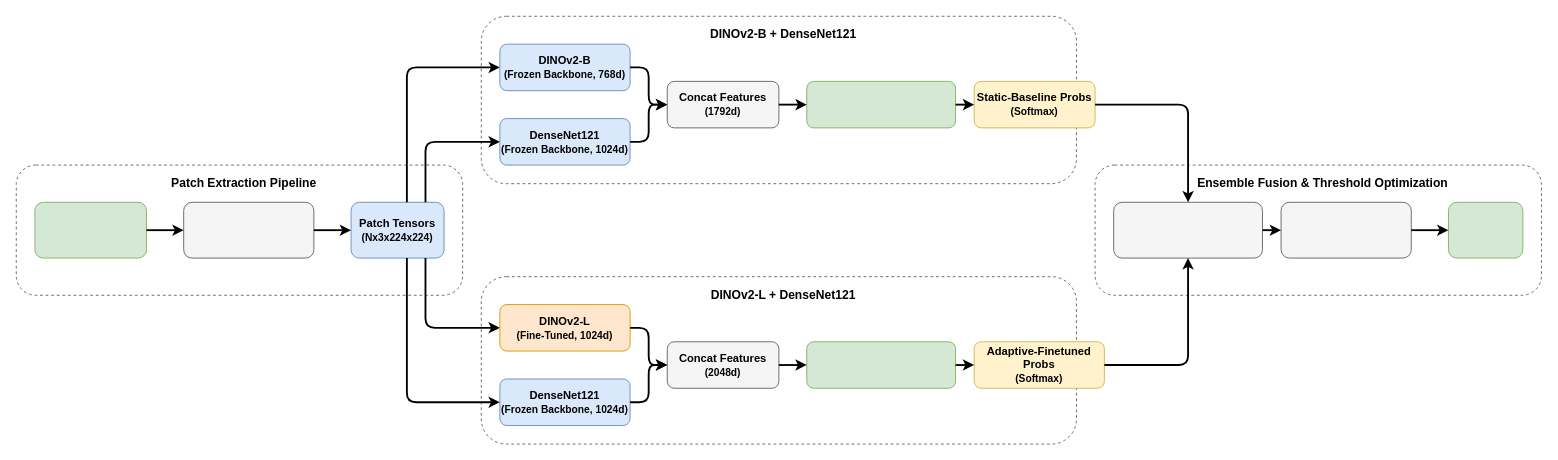
Some shapes in this 1558 by 460 pixel diagram are drawn without their labels. Here are the shapes that lost their labels. From the top down, the centre of each, then its label:
At pixel 881 104: "Static-Baseline Model (x3 Ensemble + TTA/MC)".
At pixel 90 229: "WLI Image (Labeled / Unlabeled)".
At pixel 248 229: "Patch Extraction (Quality Filter, Normalize)".
At pixel 1187 229: "Weighted Average Fusion (e.g. w=0.55 Static, 0.45 Adapt)".
At pixel 1345 229: "Threshold Optimization (Bal Acc + Recall Max)".
At pixel 1485 229: "Predicted Class (HGC, LGC, Normal)".
At pixel 881 364: "Adaptive-Finetuned Model (x3 Ensemble + TTA/MC)".
